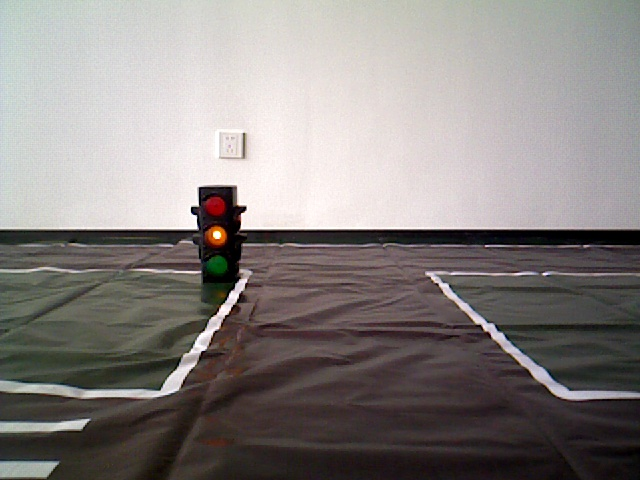yellow: (194, 185, 238, 284)
